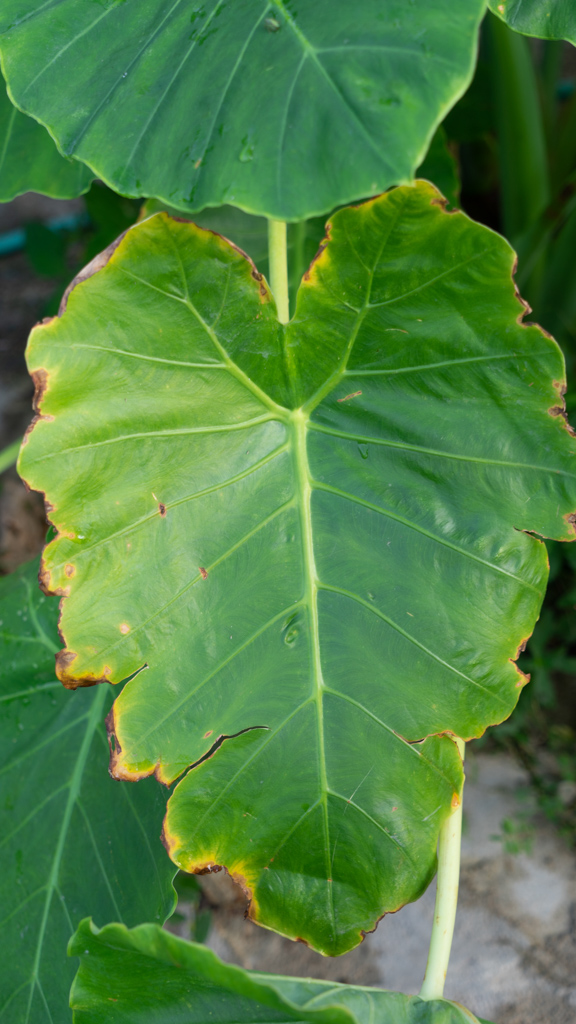frog-eye leafspot: (140, 484, 171, 526), (102, 610, 138, 639), (187, 550, 215, 584), (51, 555, 86, 582)
